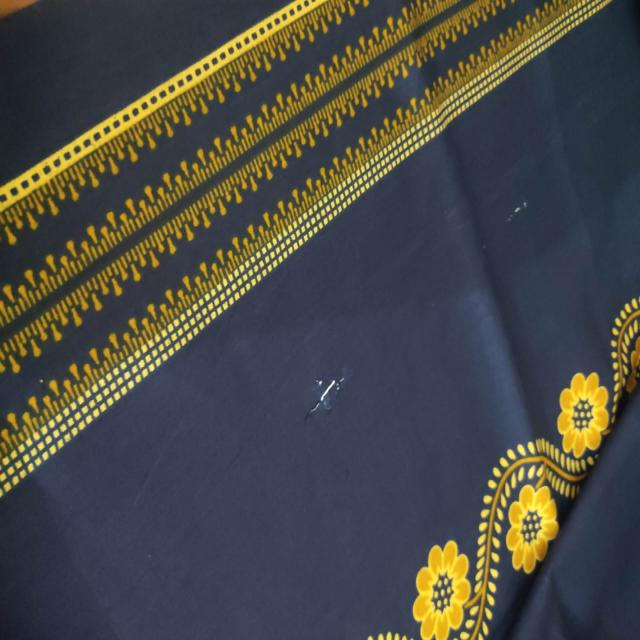selvet: (287, 358, 357, 426), (504, 188, 537, 228)
